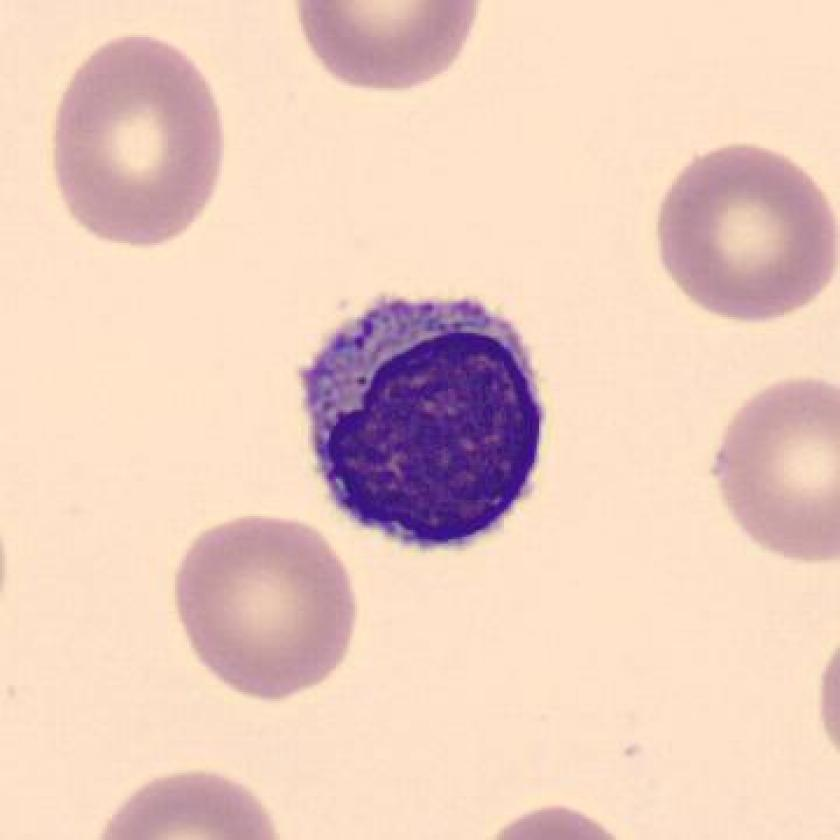lymphocyte: (277, 279, 571, 556)
